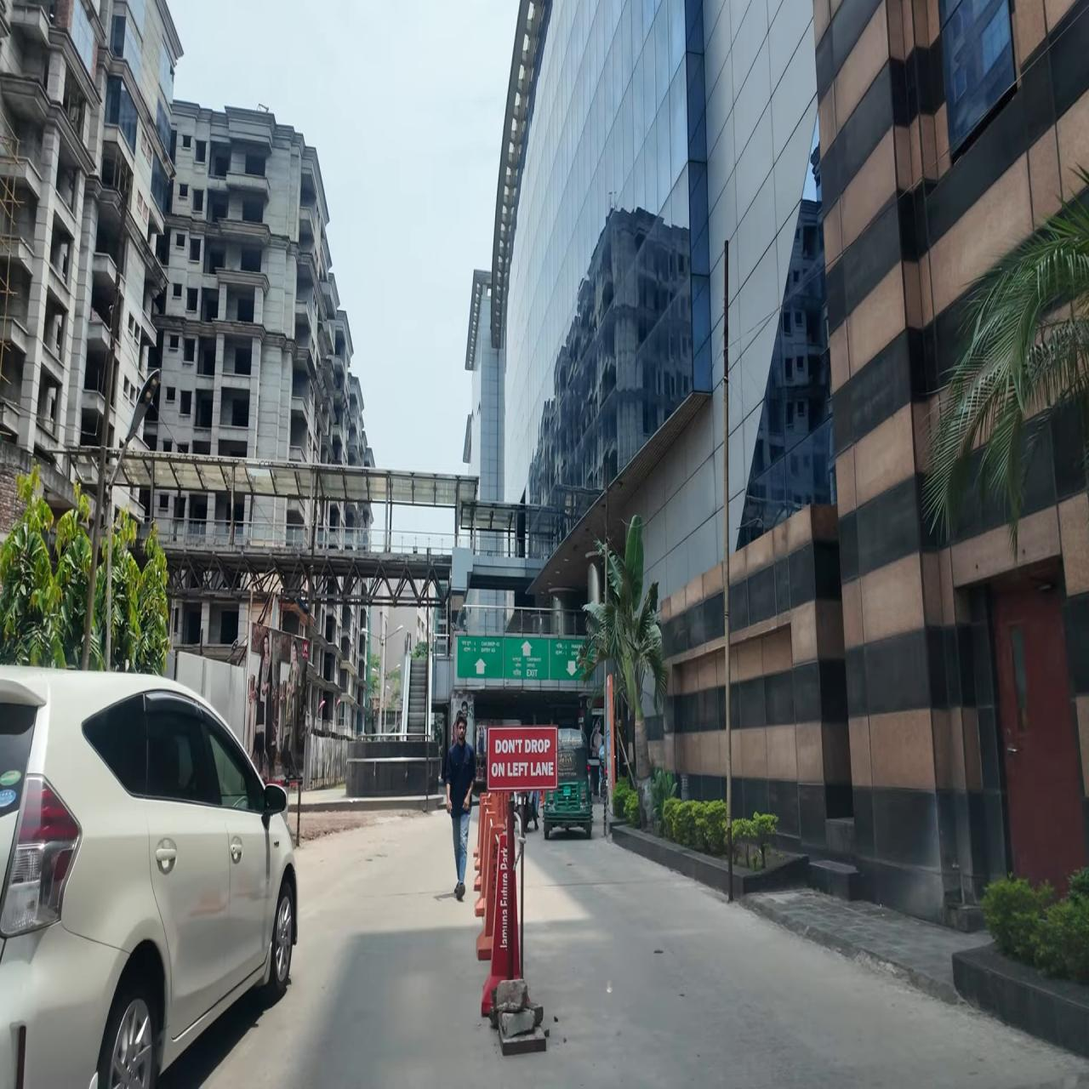person: (445, 714, 477, 901)
